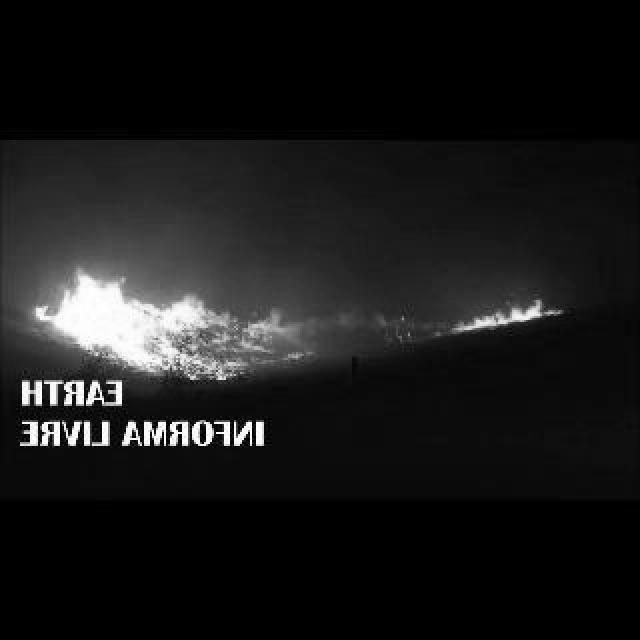Fire: (34, 260, 320, 382), (452, 296, 566, 334)
